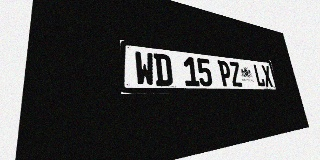1: (182, 56, 200, 86)
5: (196, 58, 213, 86)
D: (153, 53, 173, 86)
L: (253, 64, 266, 87)
P: (217, 60, 233, 87)
W: (134, 51, 155, 86)
X: (261, 65, 273, 87)
Z: (228, 61, 243, 87)
